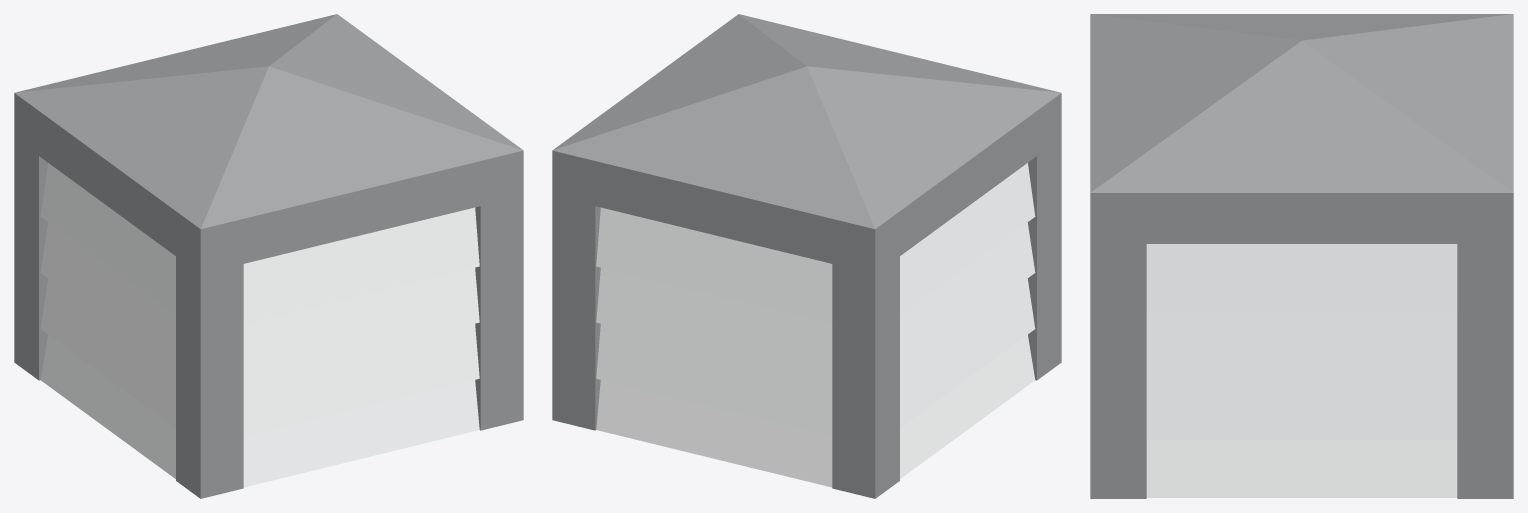
File: Rooftop_Ventilation_02.glb
3 renders of one model, left to right at view 1: azimuth 30°, elevation 25°; view 2: azimuth 150°, elevation 25°; view 3: azimuth 270°, elevation 25°, orthographic. The views are drawn at different scales.
Visible parts, largest first — view 1: Rooftop_Ventilation_02; view 2: Rooftop_Ventilation_02; view 3: Rooftop_Ventilation_02.
Boxes of the visible parts, x1,y1,x2,y2 form: Rooftop_Ventilation_02: (14,14,523,498); Rooftop_Ventilation_02: (552,14,1061,498); Rooftop_Ventilation_02: (1090,14,1513,498).
Size of the model in its own units: 1.4 by 1.35 by 1.4.
Materials: 1 (1 with a texture image).
